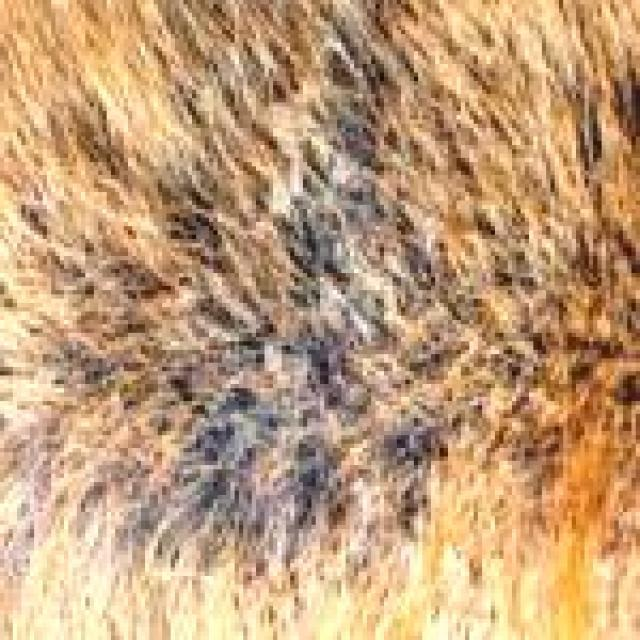fungal infection: (159, 334, 436, 576), (276, 226, 454, 329), (307, 18, 397, 219), (481, 338, 640, 429), (498, 227, 640, 326), (23, 191, 110, 316), (168, 41, 301, 122), (163, 149, 243, 272), (552, 76, 640, 171), (34, 327, 119, 418), (74, 469, 152, 548), (476, 431, 574, 484), (603, 443, 640, 537), (0, 504, 46, 578), (21, 421, 66, 480)
